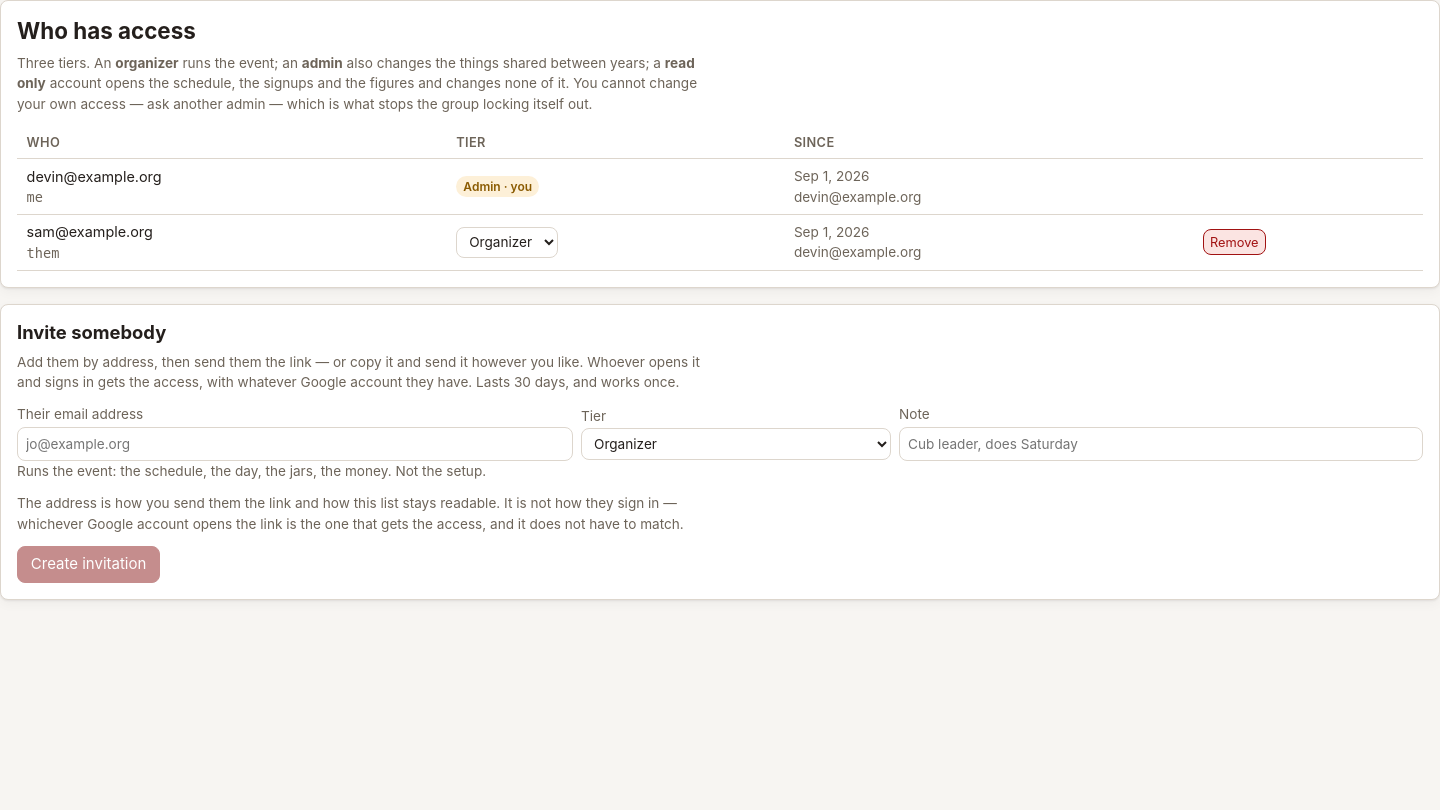
Test: inviting somebody › explains what each tier can do
Expected: the text "Runs the event" is shown, [17,463,486,479]
Select "Admin" in the dropdown labelled "Tier" at point(736, 444), box [581,428,891,460]
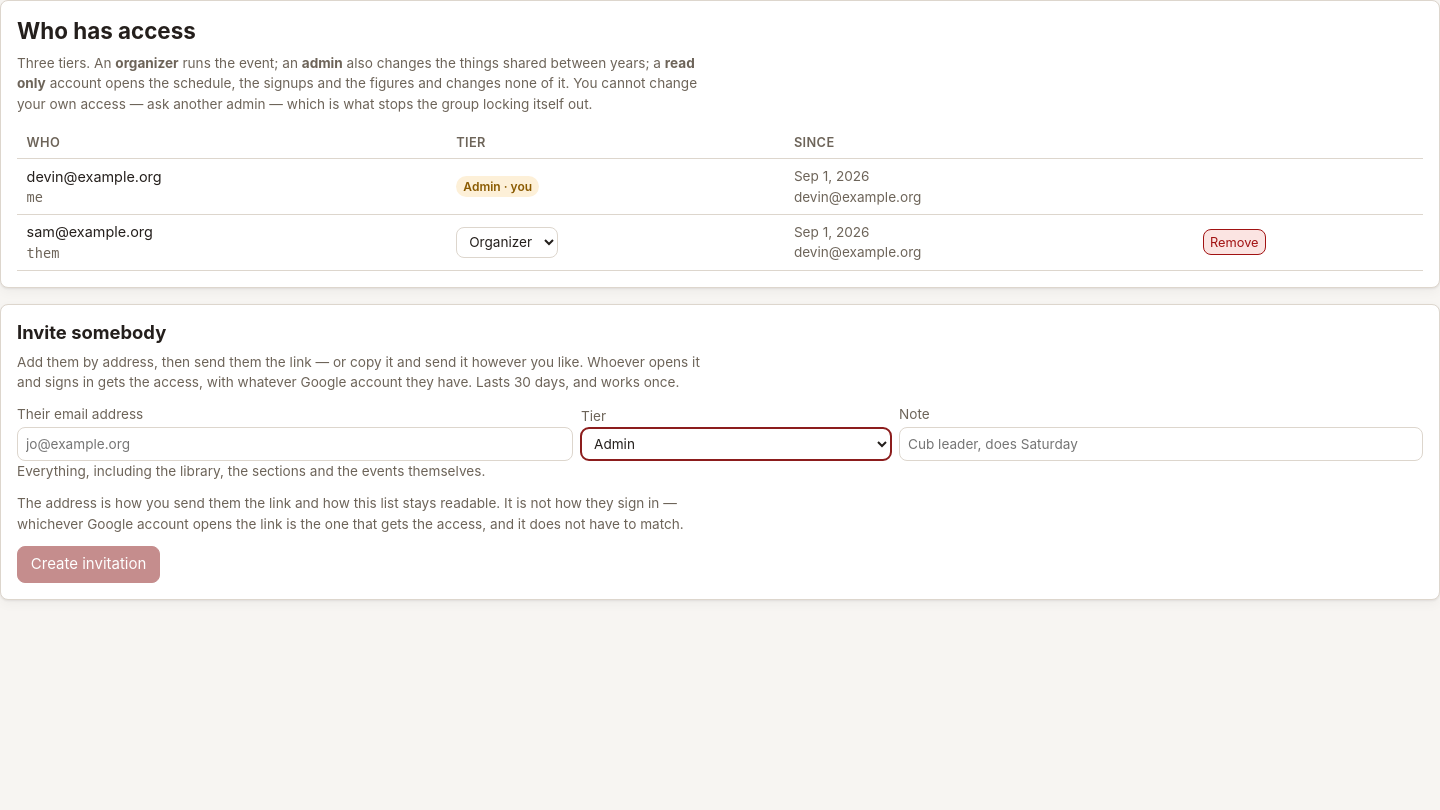
Expected: the text "including the library" is shown, [17,463,485,479]
